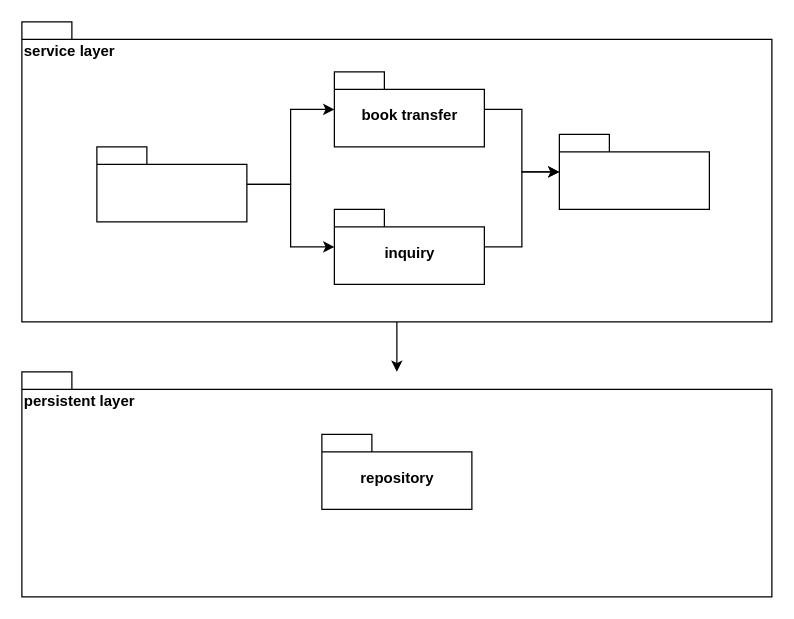
This 794x619 diagram has some shape labels left out. The shapes that lost their labels are listed below. From the top down, each one's centre as x and y in pixels, then its label:
At point 171,184: "account".
At point 633,171: "transaction".
